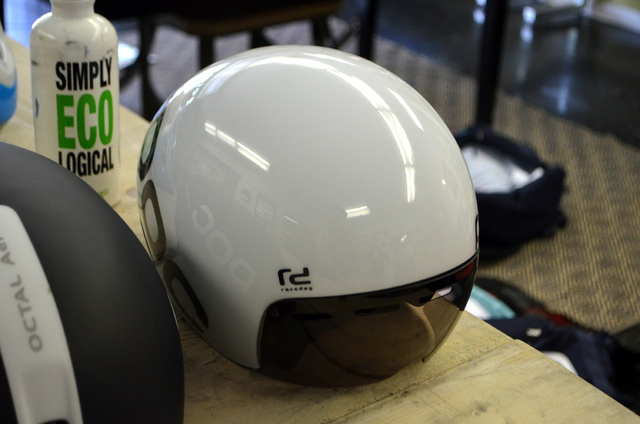helmet: (137, 54, 493, 368)
